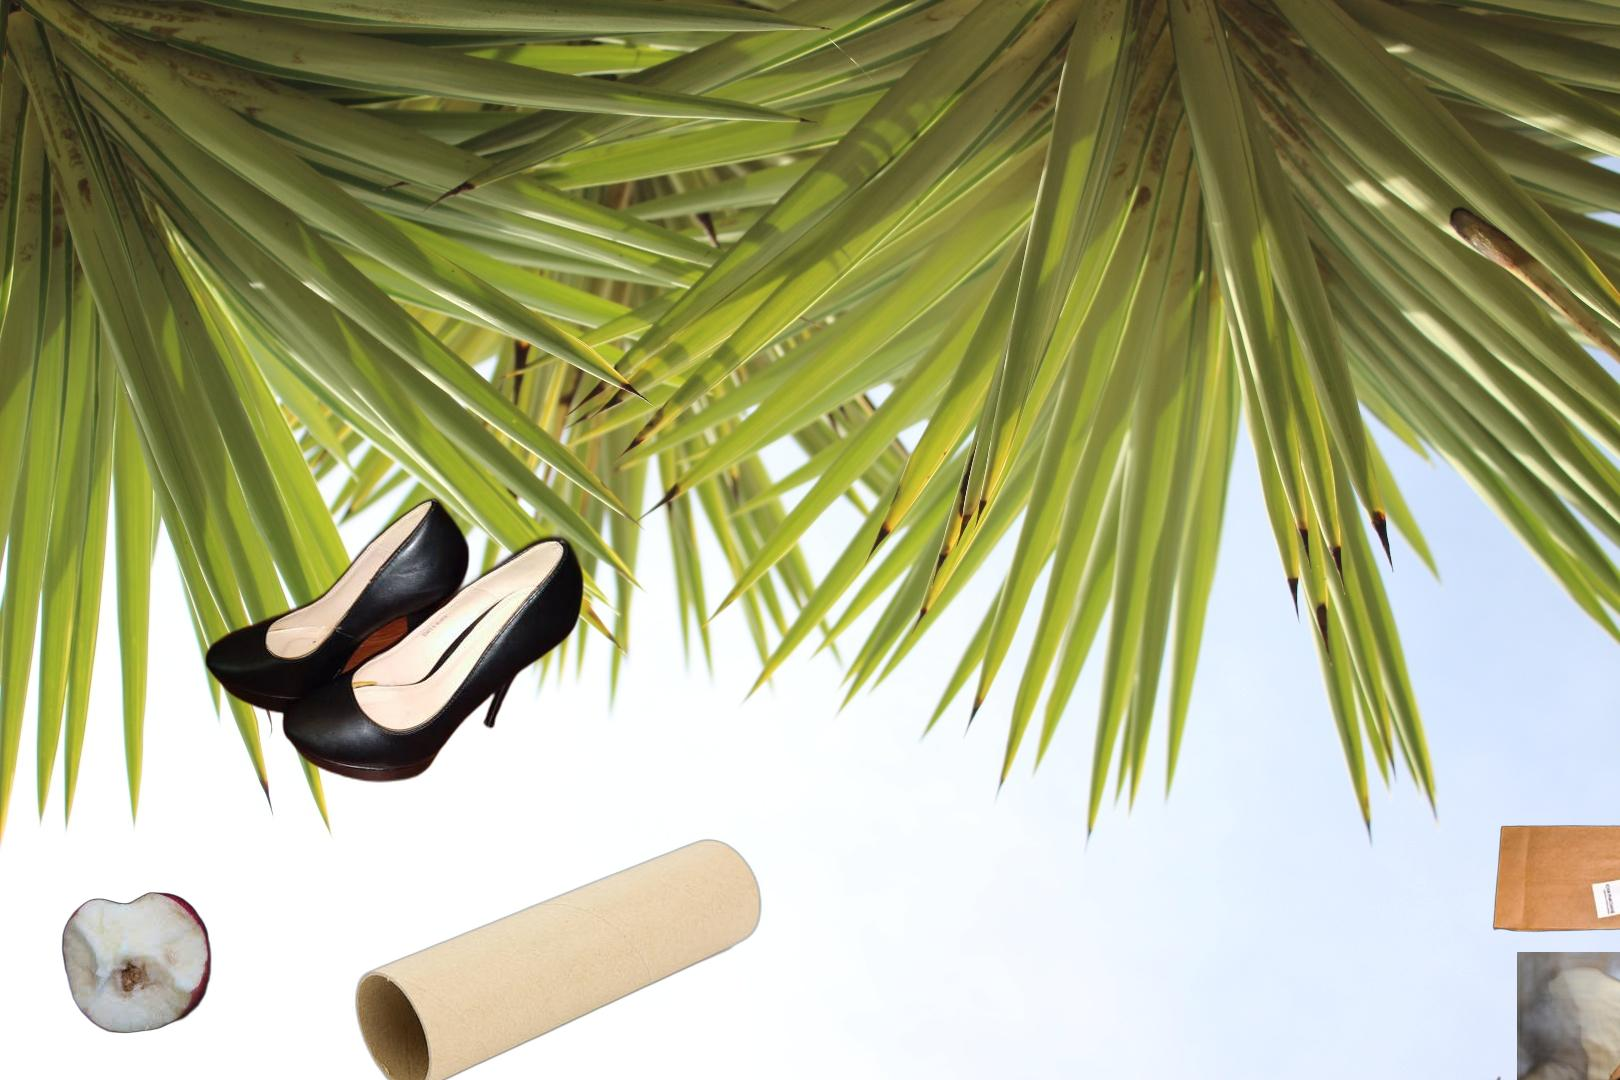biological: (60, 890, 215, 1035)
paper-bag: (1492, 823, 1620, 933), (1518, 952, 1620, 1080)
shoes: (202, 494, 586, 786), (1349, 1070, 1620, 1080)
trashbox-cardboard: (350, 837, 765, 1080)
